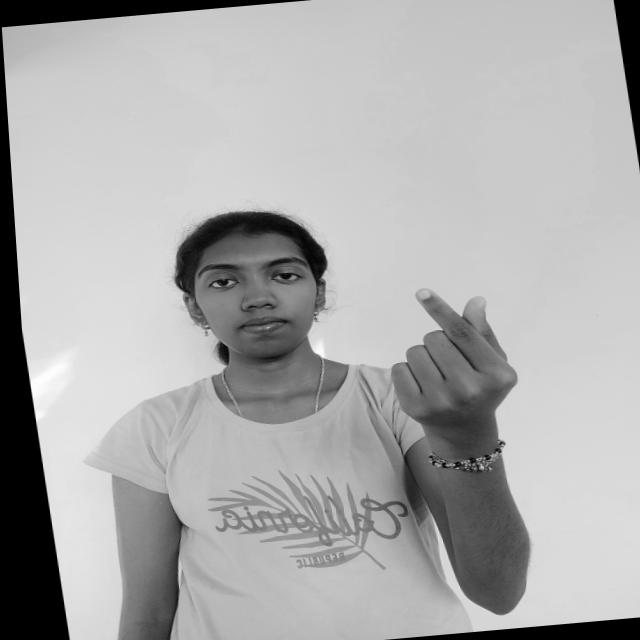Grattitude: (361, 270, 528, 449)
